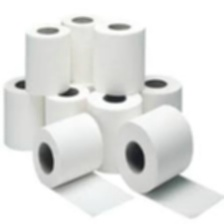tissue: (108, 100, 224, 223), (27, 108, 140, 220), (80, 85, 146, 178), (87, 15, 151, 100), (20, 19, 75, 99), (0, 72, 52, 156), (56, 11, 104, 87), (37, 80, 91, 129), (133, 70, 188, 115)
